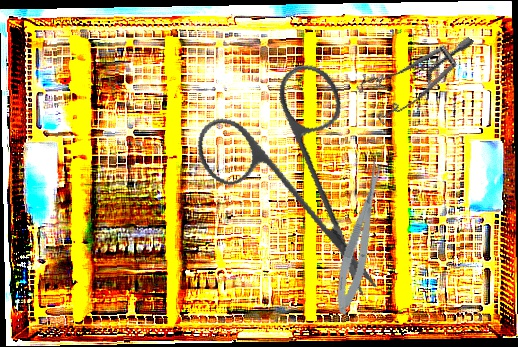Iris Scissors: (170, 42, 425, 301)
Micro Scissor: (328, 157, 394, 318)
Speculum: (346, 1, 475, 143)
